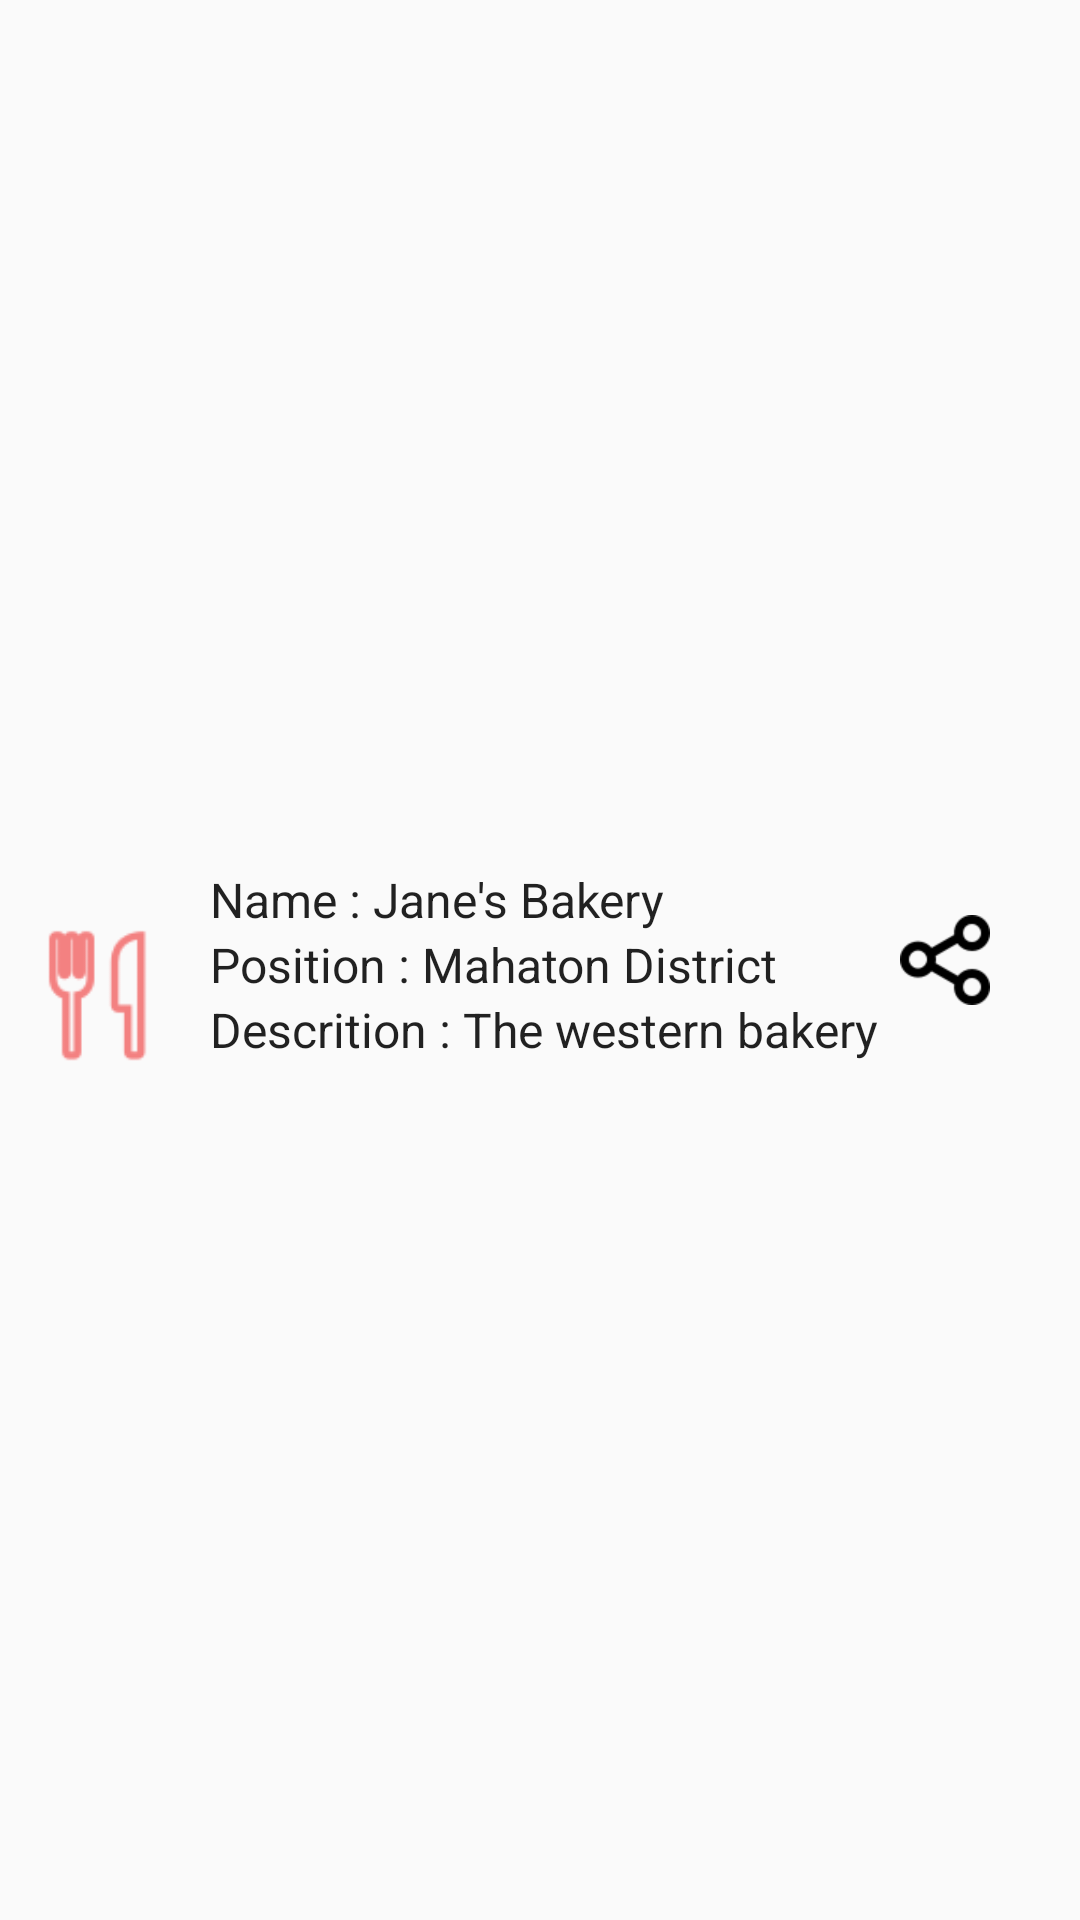

Where to tap for icons on this 1080 × 1920 app screen, as point (x, y):
food: point (97, 995)
share: point (945, 960)
